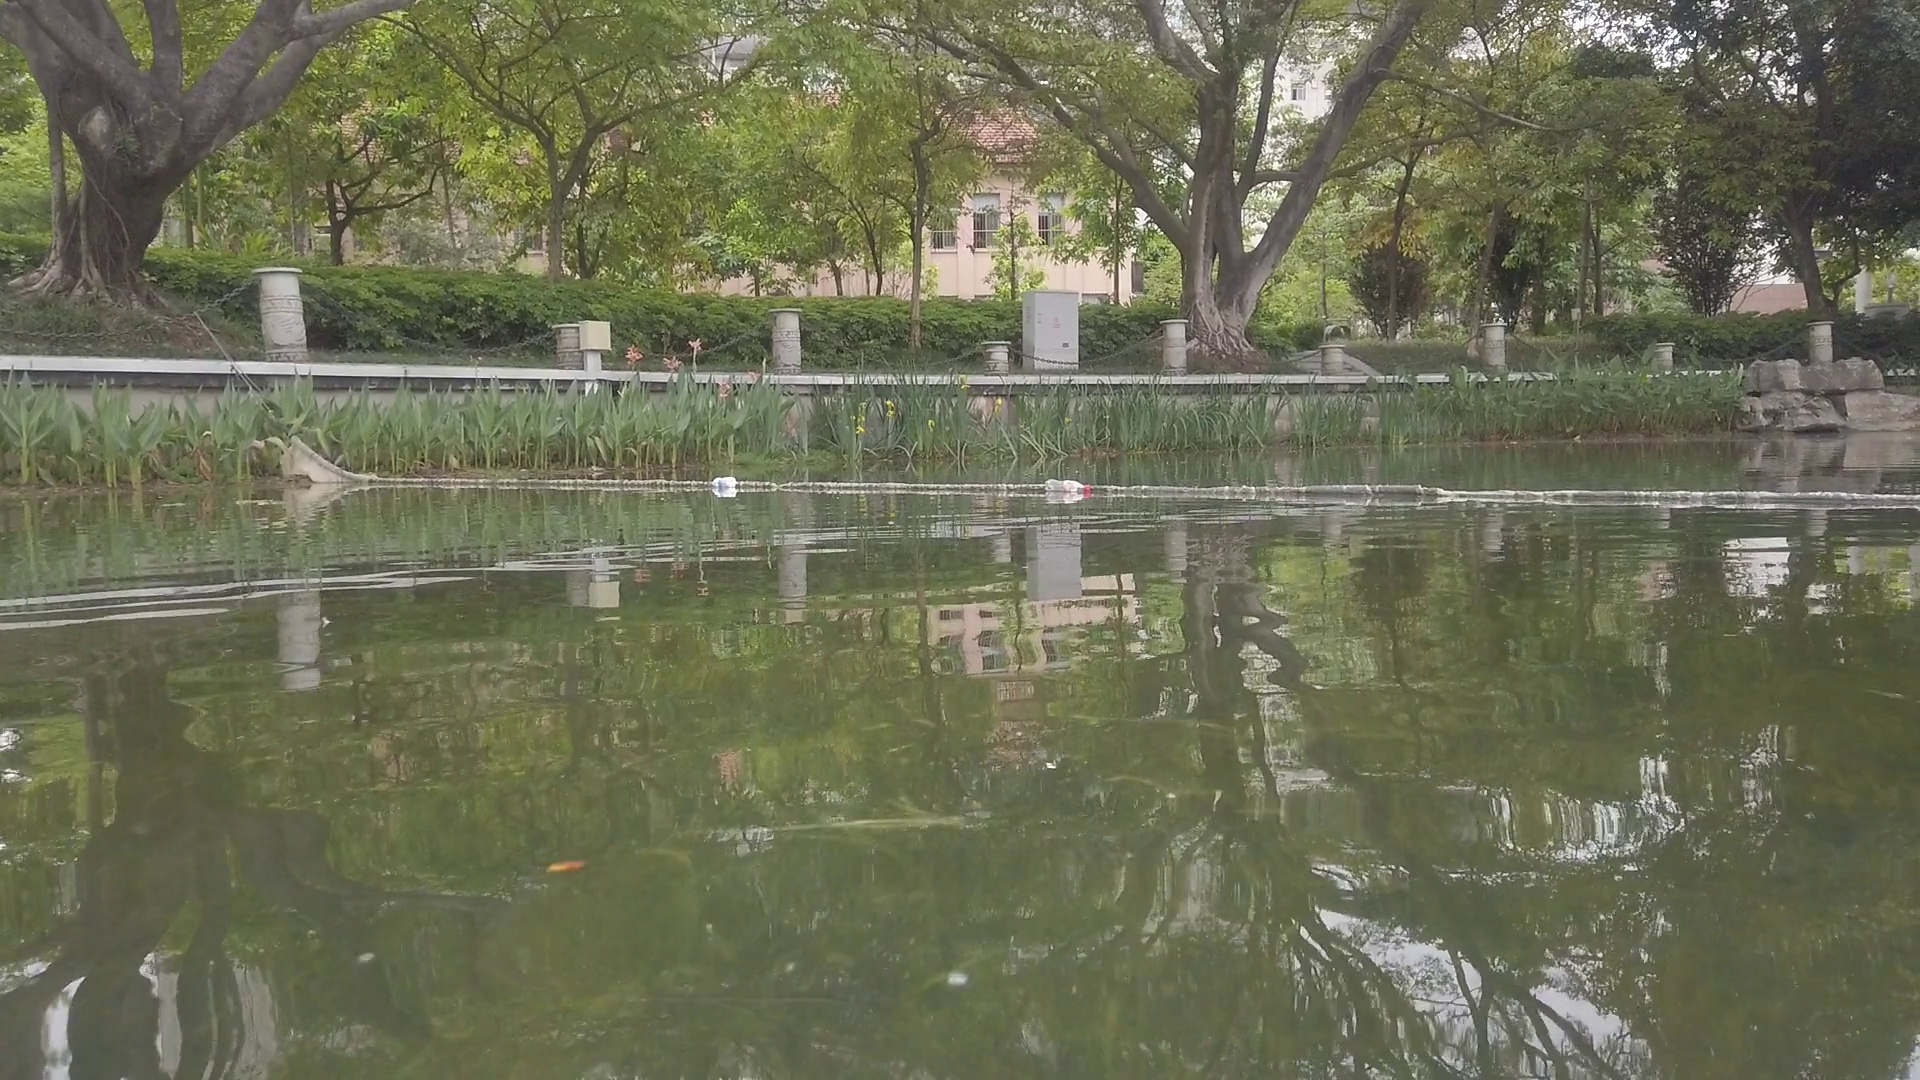bottle: (1044, 479, 1091, 495), (711, 477, 737, 489)
